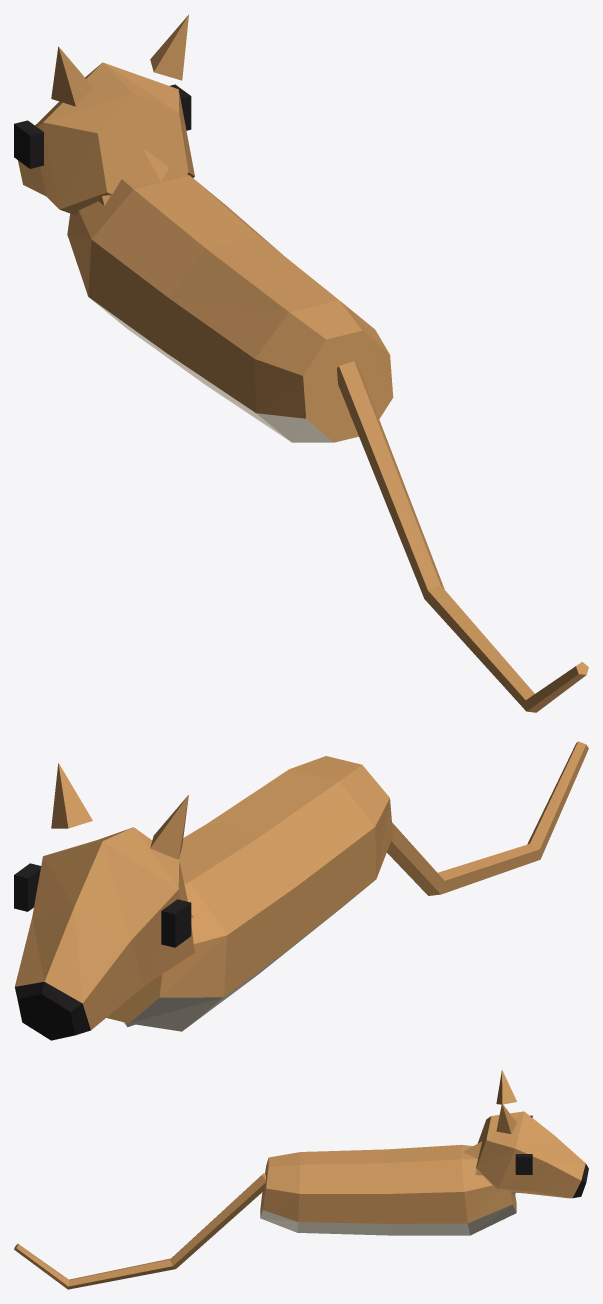
File: animal_cat.obj
3 renders of one model, top to bottom at view 1: azimuth 30°, elevation 25°; view 2: azimuth 150°, elevation 25°; view 3: azimuth 270°, elevation 25°, orthographic. The views are drawn at different scales.
Parts seen in each view (by area): view 1: animal_cat; view 2: animal_cat; view 3: animal_cat.
Part boxes in pixels (x1=…): animal_cat: x1=14, y1=14, x2=588, y2=712; animal_cat: x1=14, y1=741, x2=588, y2=1040; animal_cat: x1=14, y1=1070, x2=588, y2=1289.
Size of the model in its own units: 0.1856 by 0.4212 by 1.08.
